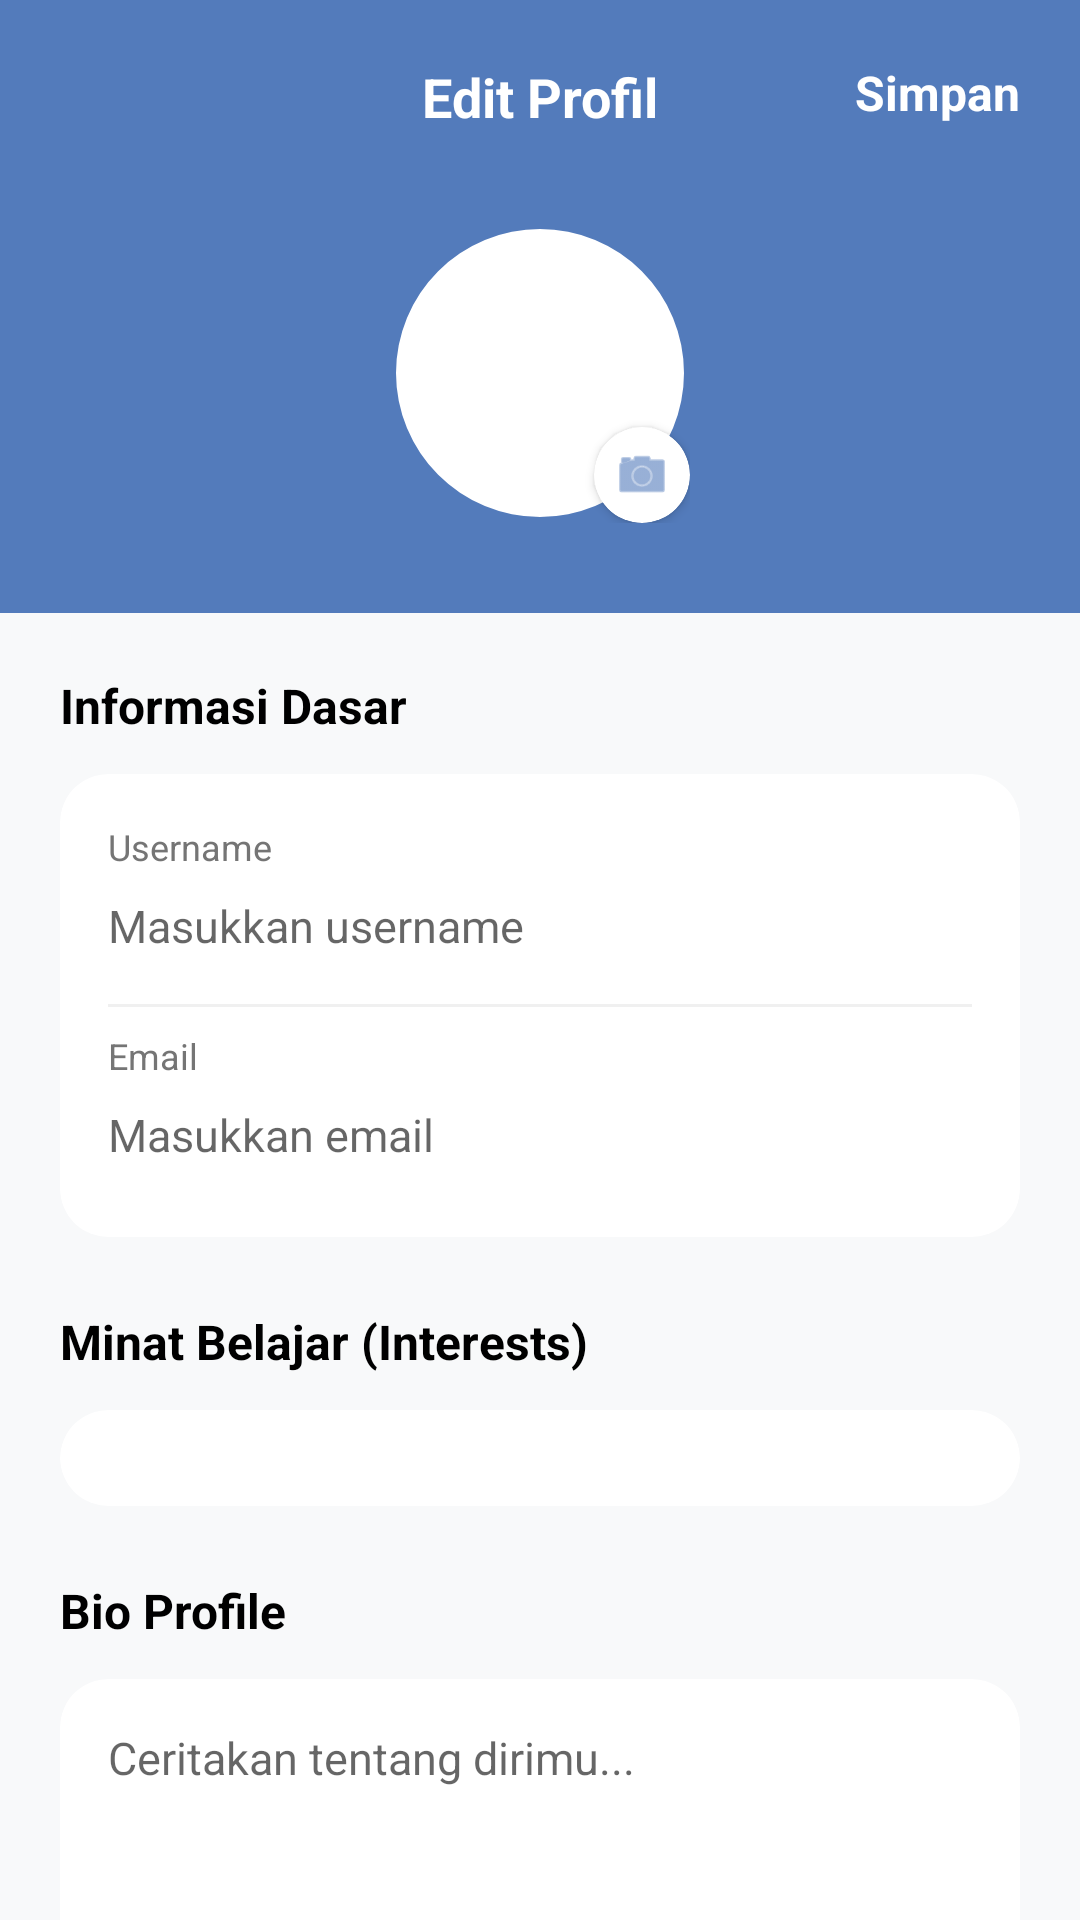

Named icons in this screenshot (1080px x 1920px) and their centers, (x,y):
camera: (642,475)
